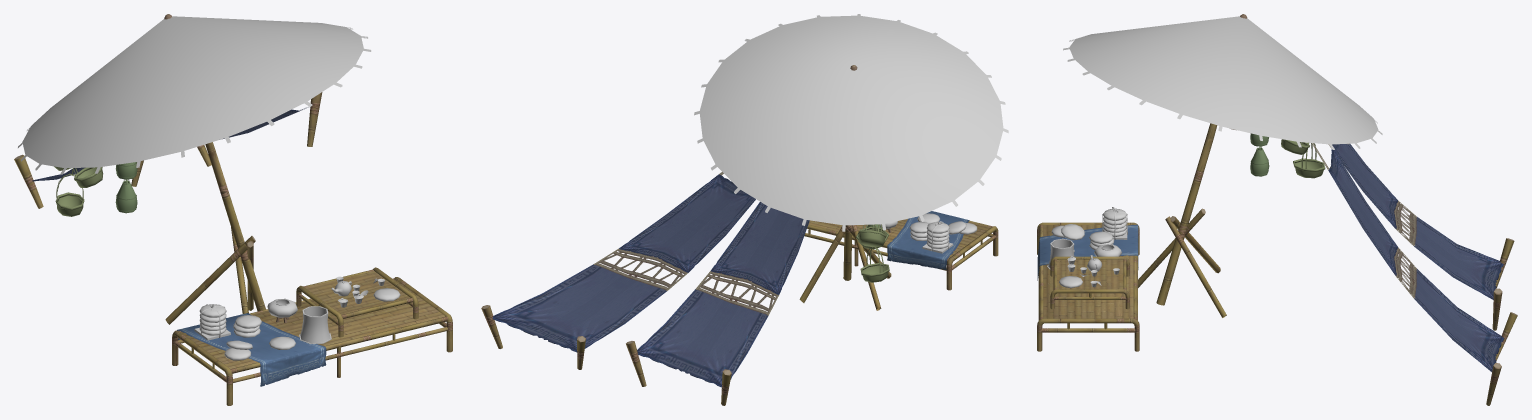
Rendered from Homeworld_Exterior_Ly_Build_Store_06_Lod0.fbx.
The picture shows the model from 3 angles, left to right: view 1: azimuth 30°, elevation 25°; view 2: azimuth 150°, elevation 25°; view 3: azimuth 270°, elevation 25°; orthographic projection. The views are drawn at different scales.
Parts seen in each view (by area): view 1: Area_Ly_Prop_HZ_Cluster_01_Lod0; view 2: Area_Ly_Prop_HZ_Cluster_01_Lod0; view 3: Area_Ly_Prop_HZ_Cluster_01_Lod0.
Part boxes in pixels (left/top/right/bottom): Area_Ly_Prop_HZ_Cluster_01_Lod0: left=14, top=14, right=452, bottom=405; Area_Ly_Prop_HZ_Cluster_01_Lod0: left=481, top=14, right=1008, bottom=405; Area_Ly_Prop_HZ_Cluster_01_Lod0: left=1037, top=14, right=1517, bottom=405.
Size of what is drawn, in the model's own units: 7.22 by 4.81 by 7.68.
